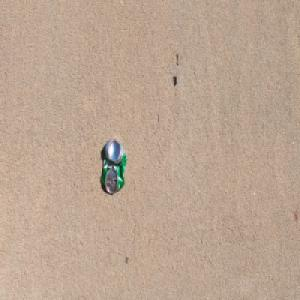SodaCan: (101, 137, 127, 195)
